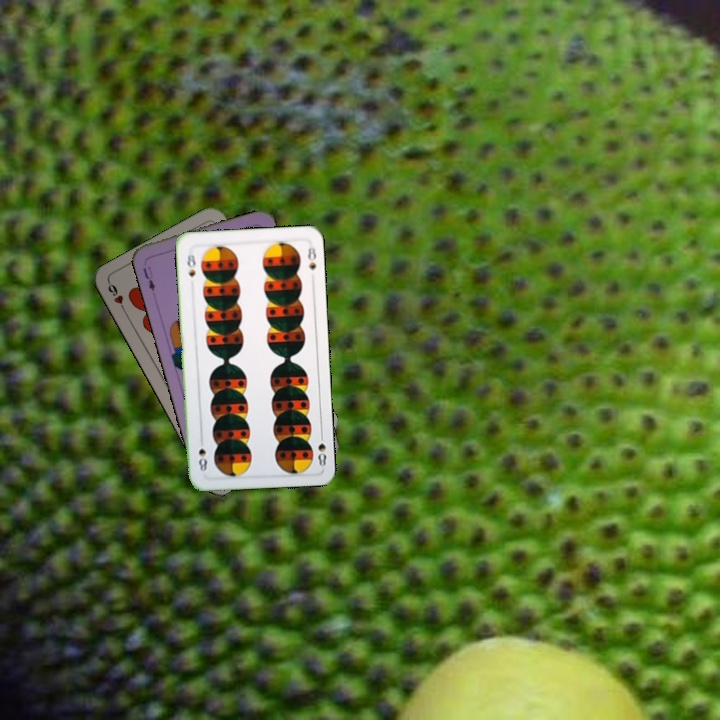EU: (139, 262, 158, 294)
H9: (104, 278, 129, 316)
S8: (314, 428, 329, 469), (183, 246, 198, 279)
